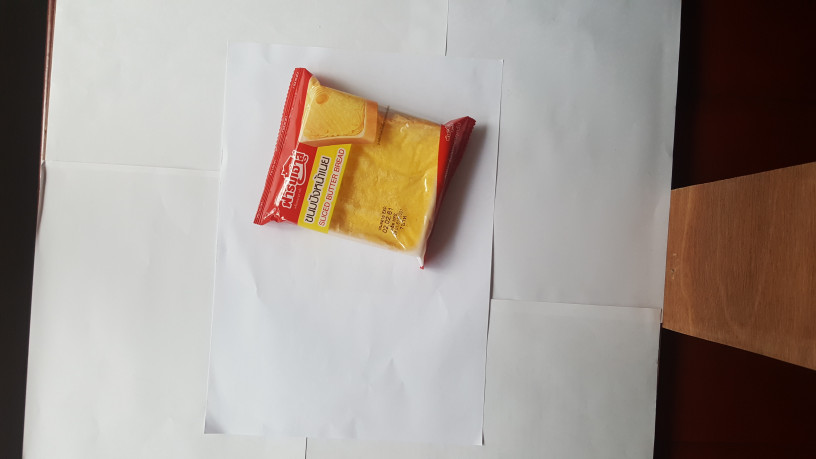farmhouse-bread-butter: (248, 72, 478, 264)
